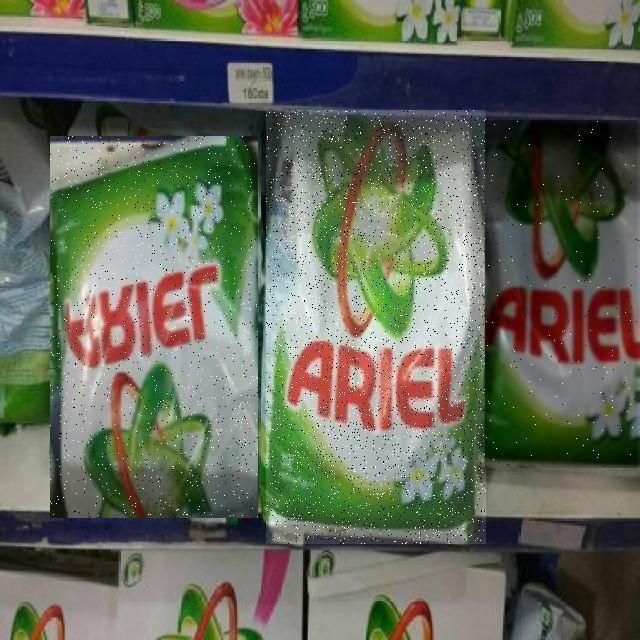Detergent: (266, 110, 486, 544), (51, 136, 259, 518), (486, 121, 640, 469)
